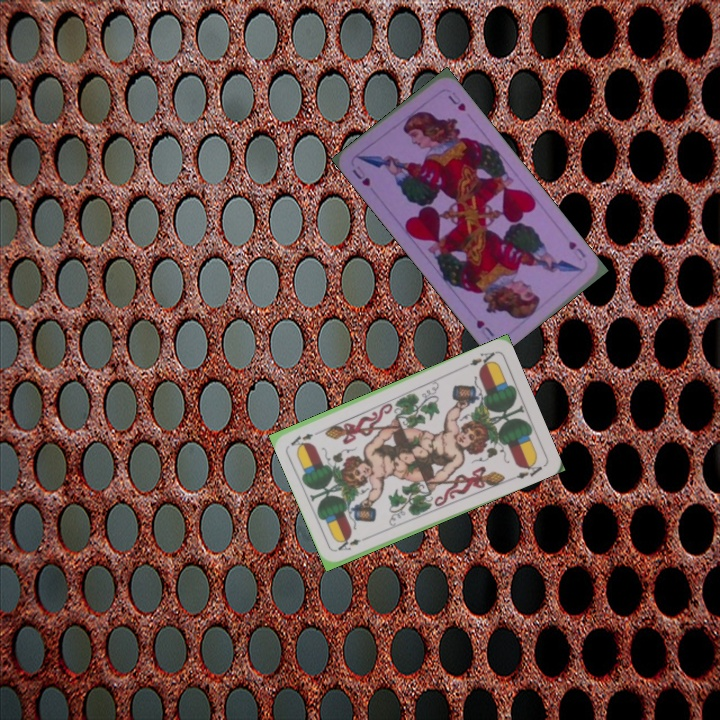EA: (460, 348, 498, 370), (334, 532, 372, 553)
HU: (348, 162, 373, 189), (564, 237, 588, 260)
